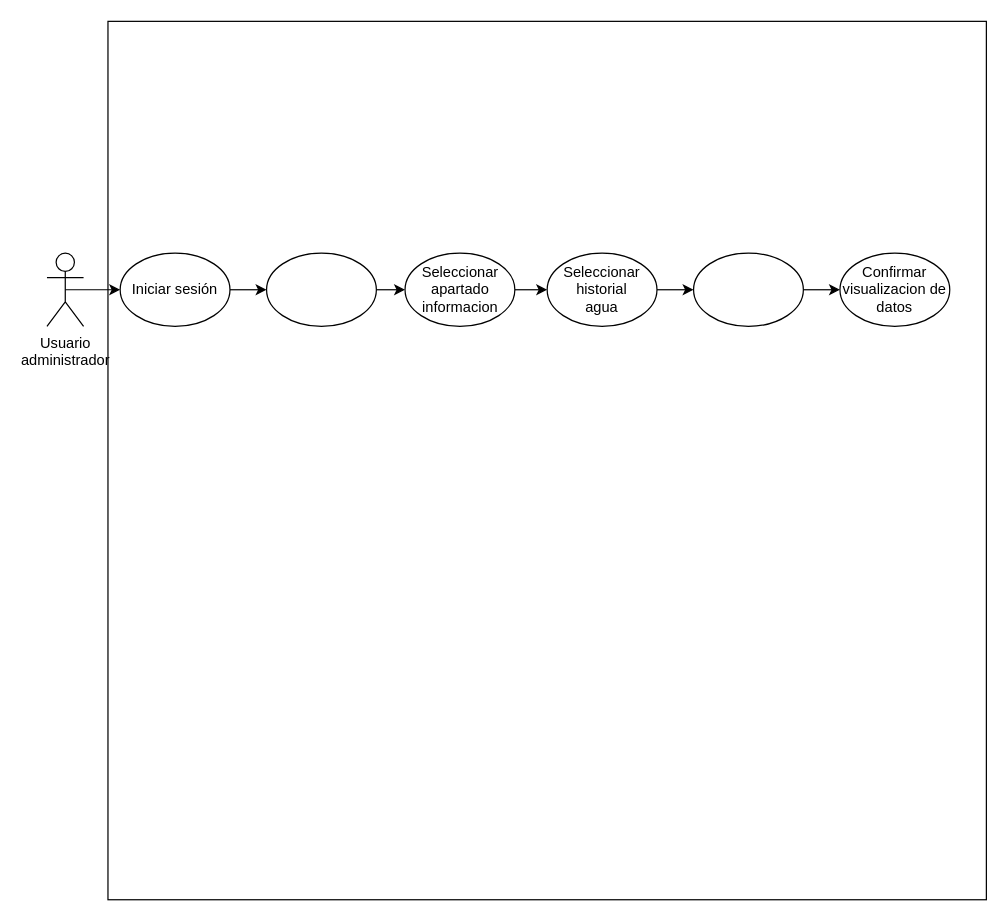
The diagram is 1008 pixels wide and 921 high, and some of its shapes have lost their labels. Each missing label, with the centre of its shape:
"Filtrar informacion por fecha" belongs at point (747, 289).
"ingresar menu principal" belongs at point (320, 289).
